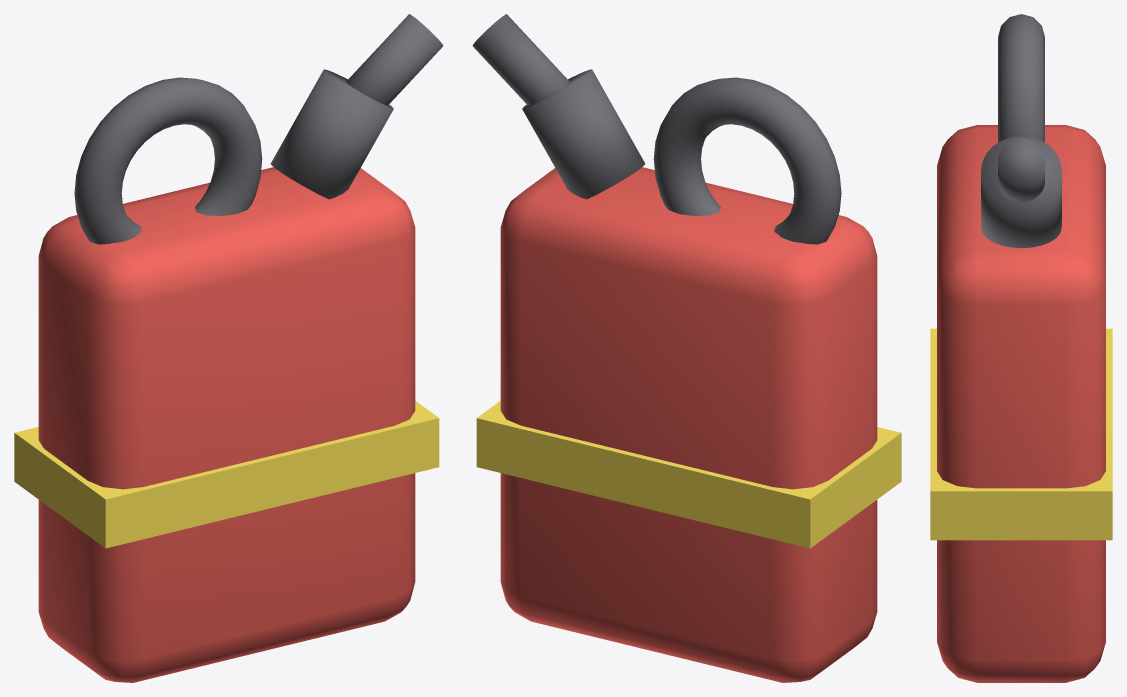
File: Bidon.fbx
3 renders of one model, left to right at view 1: azimuth 30°, elevation 25°; view 2: azimuth 150°, elevation 25°; view 3: azimuth 270°, elevation 25°, orthographic.
Parts seen in each view (by area): view 1: Bidon; view 2: Bidon; view 3: Bidon.
Part boxes in pixels (x1,y1,x2,y2): Bidon: [14, 14, 443, 682]; Bidon: [472, 14, 901, 682]; Bidon: [930, 14, 1112, 682].
Bounding box in the file's own units: 0.6473 × 0.9334 × 0.27.
